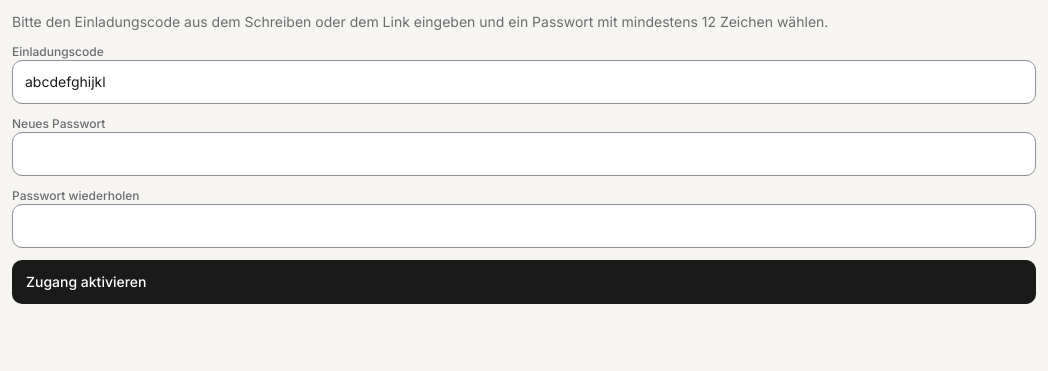
Scenario: InvitationForm › shows the server error and stays on the form
The image size is (1048, 371).
Type "ein-langes-passwort" into the password field labelled "Neues Passwort" at (524, 154), box [12,132,1036,176]
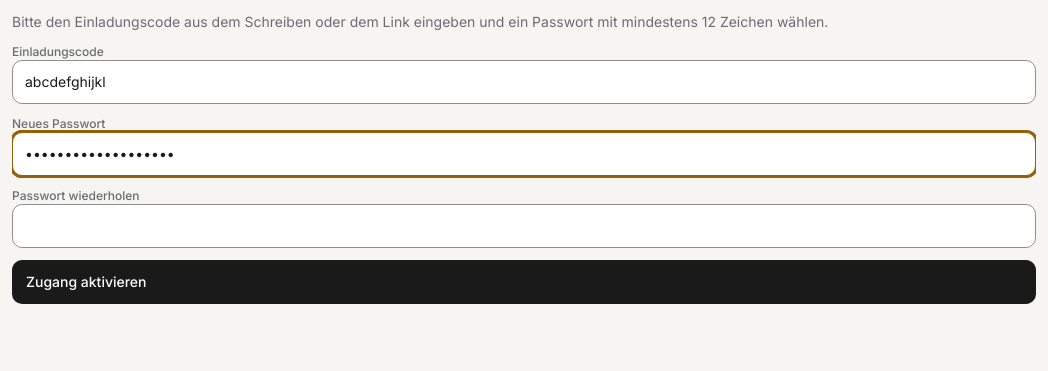
Type "ein-langes-passwort" into the password field labelled "Passwort wiederholen" at (524, 226), box [12,204,1036,248]
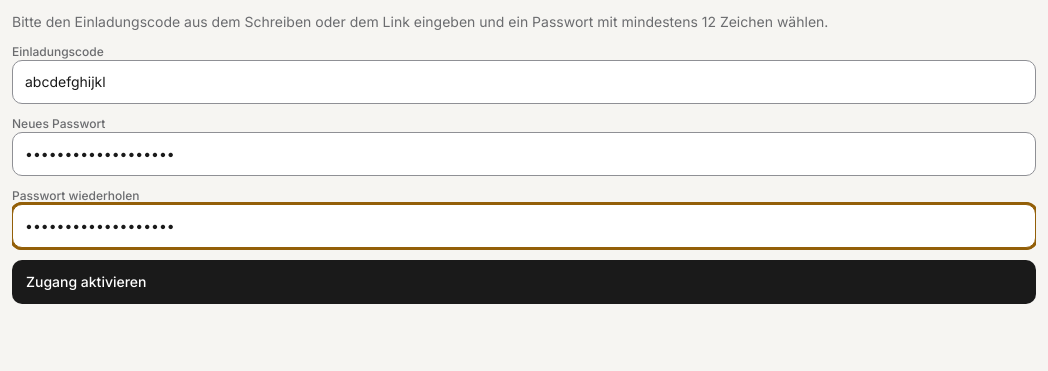
Click the button "Zugang aktivieren" at (86, 282), box [12,260,1036,304]
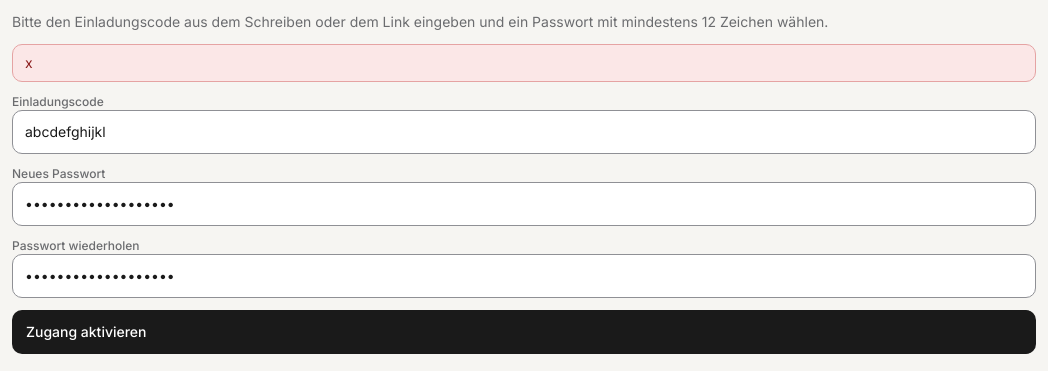
Expected: the message "x" is shown, [12,44,1036,82]
